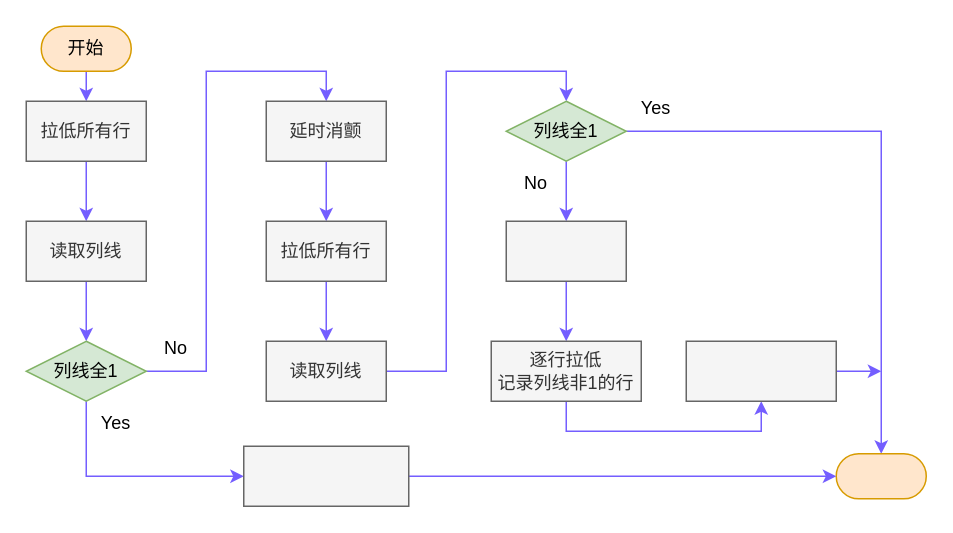
The diagram is 953 pixels wide and 533 high, and some of its shapes have lost their labels. Each missing label, with the centre of its shape:
"MOV BX,0FFH" goes at pixel 325 475.
"查表 得到对应数值" goes at pixel 760 370.
"结束" goes at pixel 880 475.
"记录非1列" goes at pixel 565 250.
